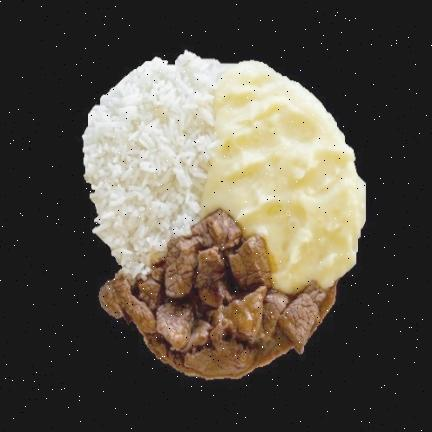meat: (100, 210, 337, 378)
potato: (201, 61, 364, 291)
rice: (83, 50, 222, 276)
